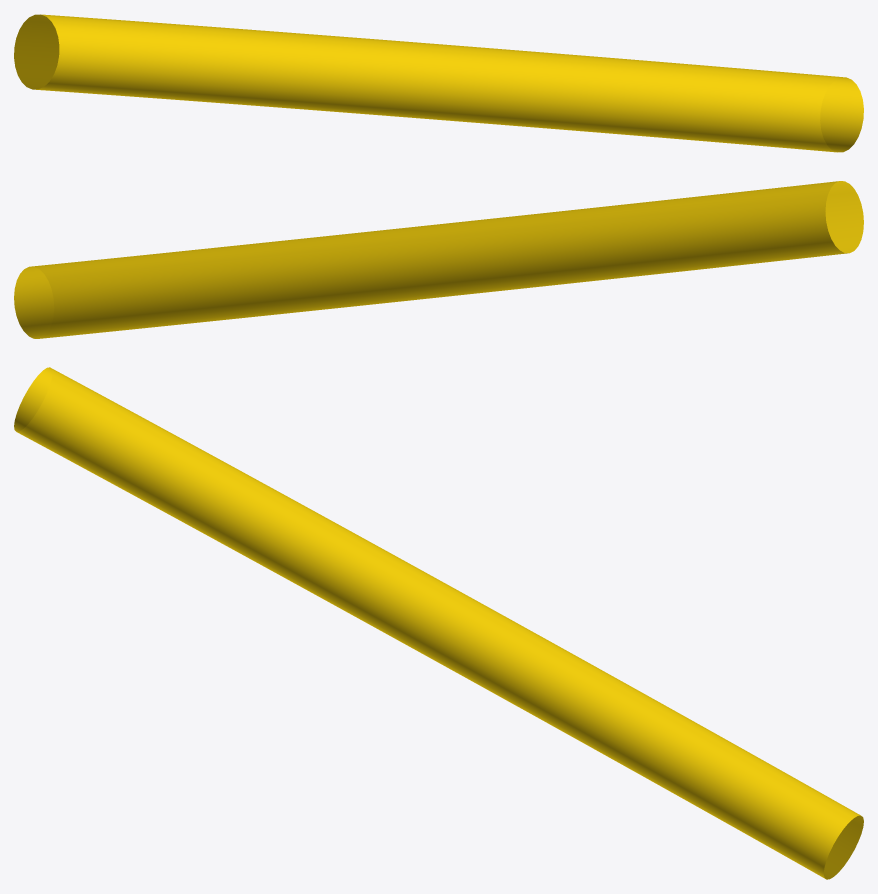
Rendered from Event_421364160_track_0.fbx.
3 renders of one model, top to bottom at view 1: azimuth 30°, elevation 25°; view 2: azimuth 150°, elevation 25°; view 3: azimuth 330°, elevation 25°, orthographic. The views are drawn at different scales.
Parts seen in each view (by area): view 1: Model; view 2: Model; view 3: Model.
Boxes of the visible parts, x1,y1,x2,y2 form: Model: (14,14,863,152); Model: (14,181,863,338); Model: (14,367,863,879).
Bounding box in the file's own units: 0.5146 × 0.1995 × 0.0587.
